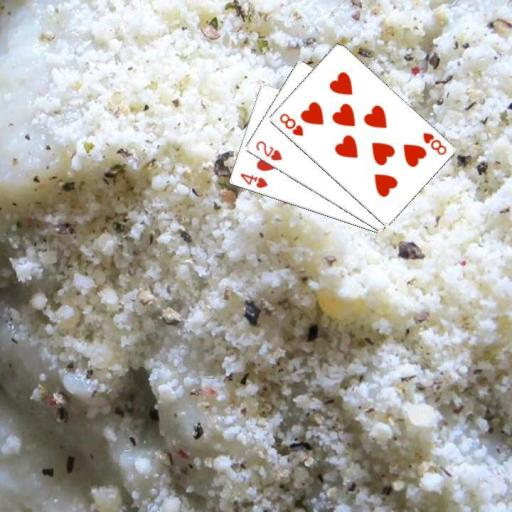2H: (252, 137, 283, 162)
4H: (237, 170, 269, 190)
8H: (276, 110, 304, 138), (420, 130, 448, 157)
